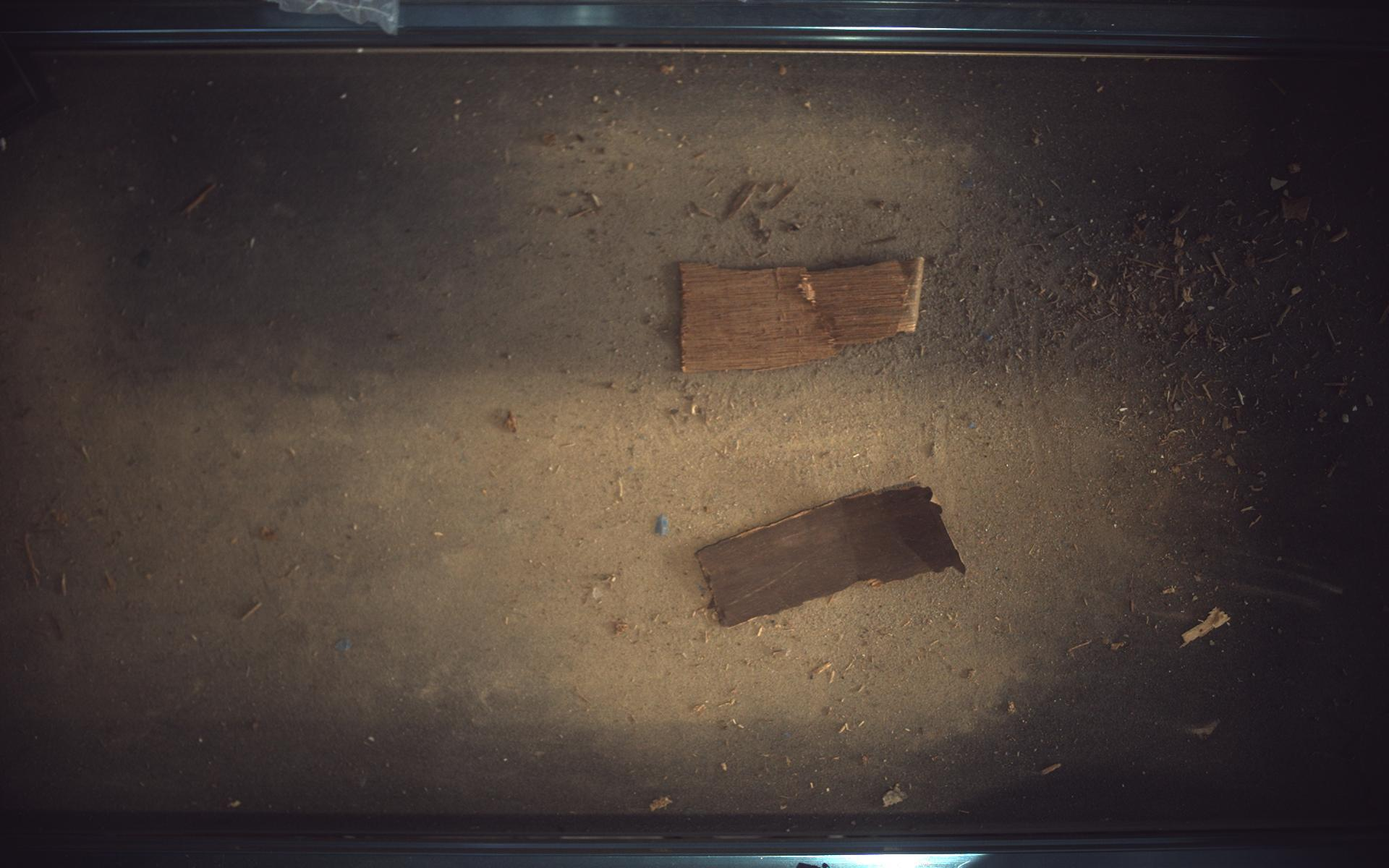wood: (698, 483, 968, 626), (680, 257, 926, 373)
